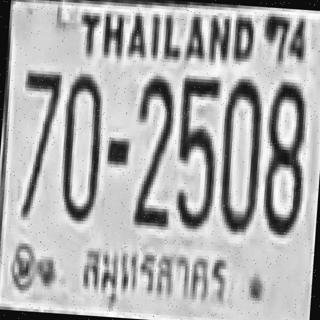N00: (215, 75, 263, 230), (56, 70, 105, 219), (218, 75, 263, 189)
N02: (131, 74, 174, 208), (132, 107, 174, 223)
N07: (17, 70, 61, 192), (19, 70, 62, 172), (20, 70, 62, 154)
N08: (259, 79, 308, 234)
P58: (70, 238, 235, 320)
